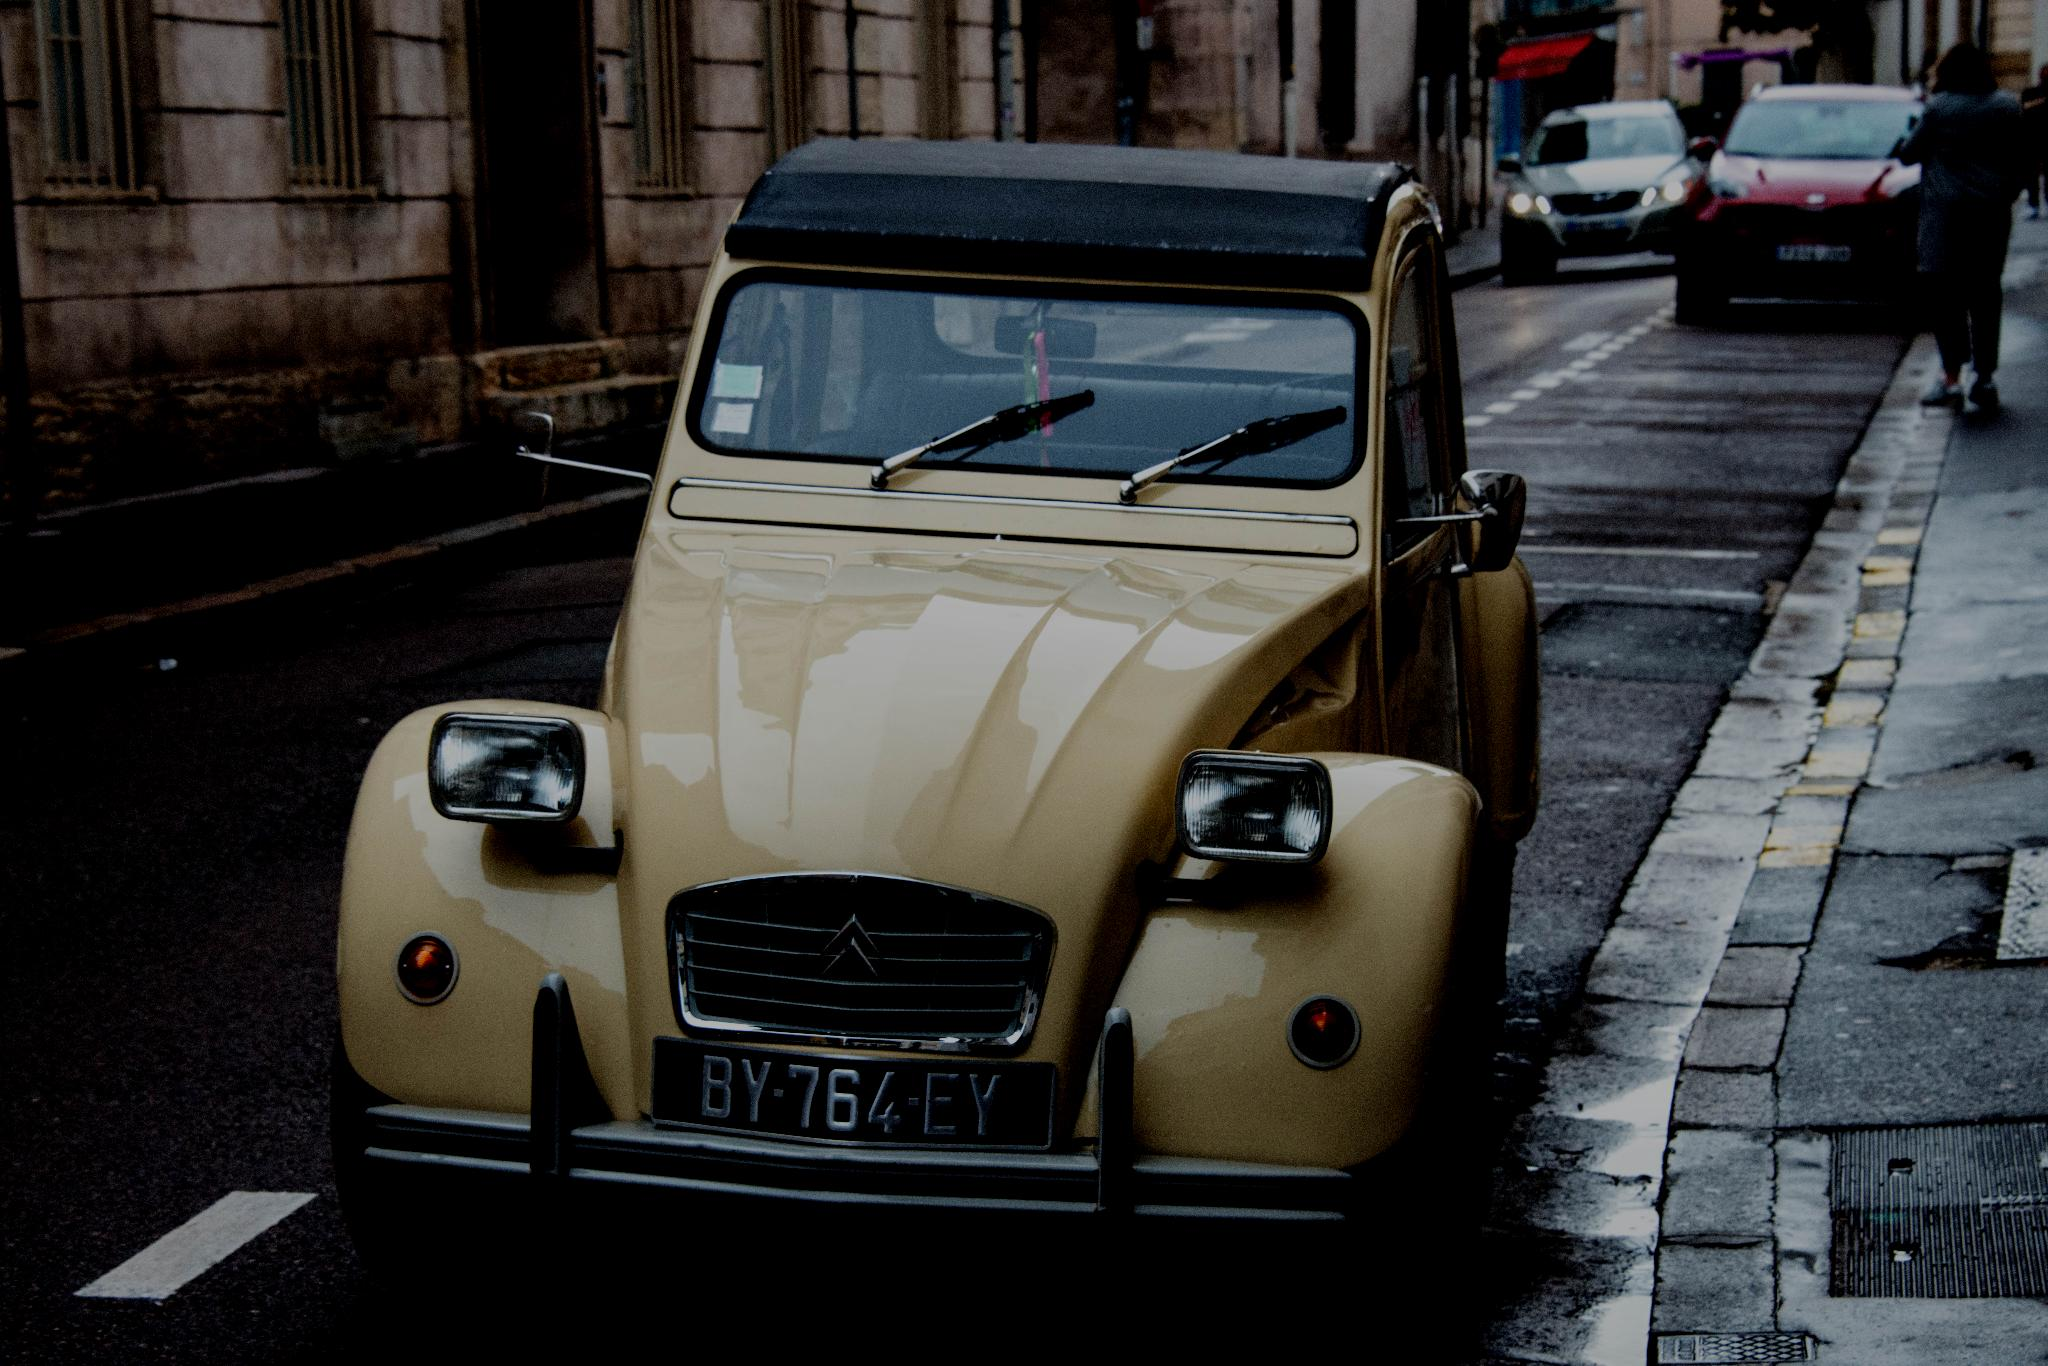Citroen: (785, 883, 910, 1014)
